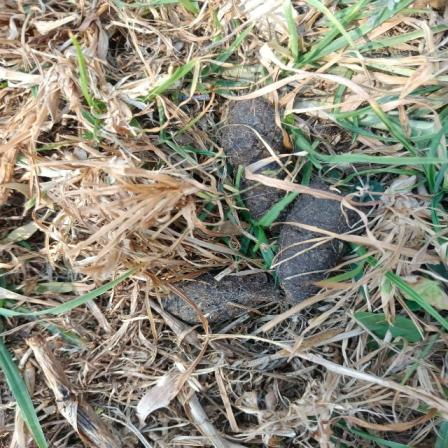dog-poop: (138, 84, 372, 338)
